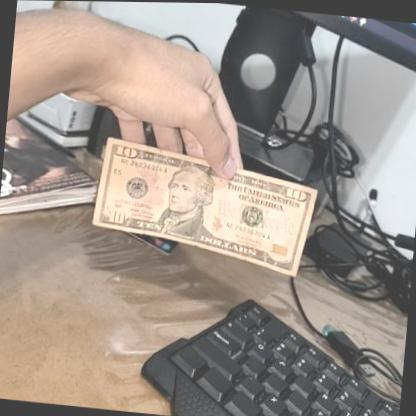ten-front: (90, 134, 322, 275)
